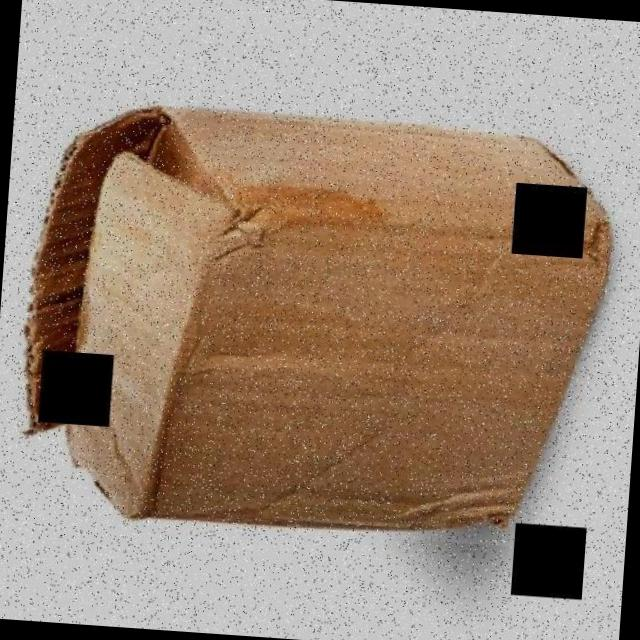box: (10, 81, 640, 553)
